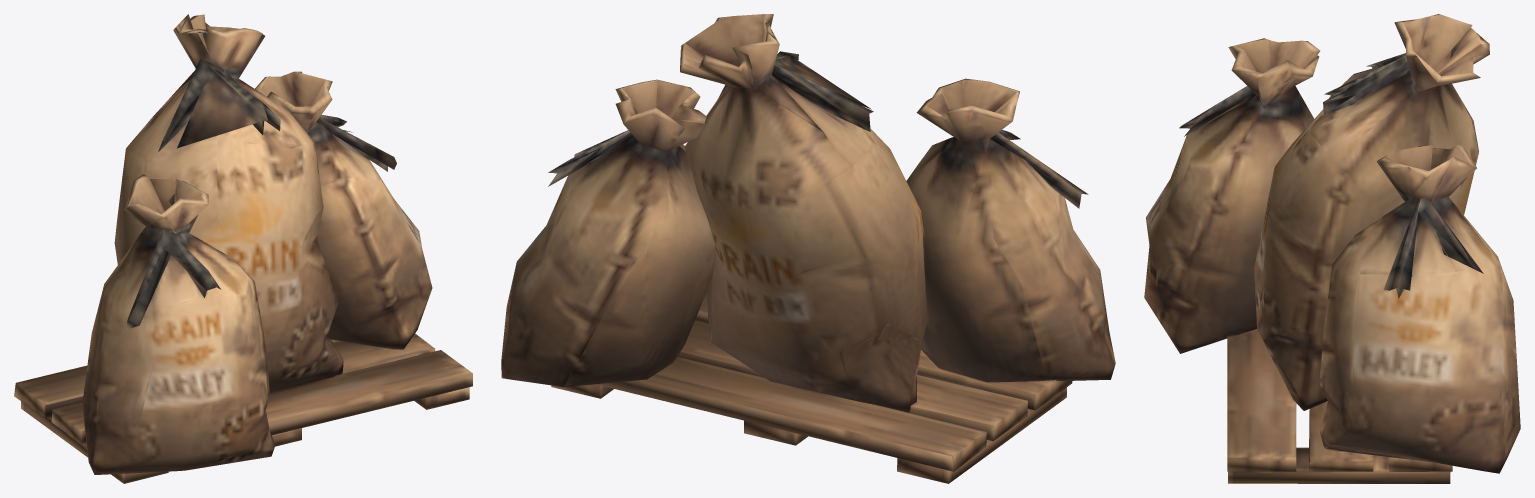
Rendered from prop_sacks.glb.
3 renders of one model, left to right at view 1: azimuth 30°, elevation 25°; view 2: azimuth 150°, elevation 25°; view 3: azimuth 270°, elevation 25°, orthographic. The views are drawn at different scales.
Bounding box in the file's own units: 1.14 × 0.9 × 0.8174.
Materials: 1 (1 with a texture image).
